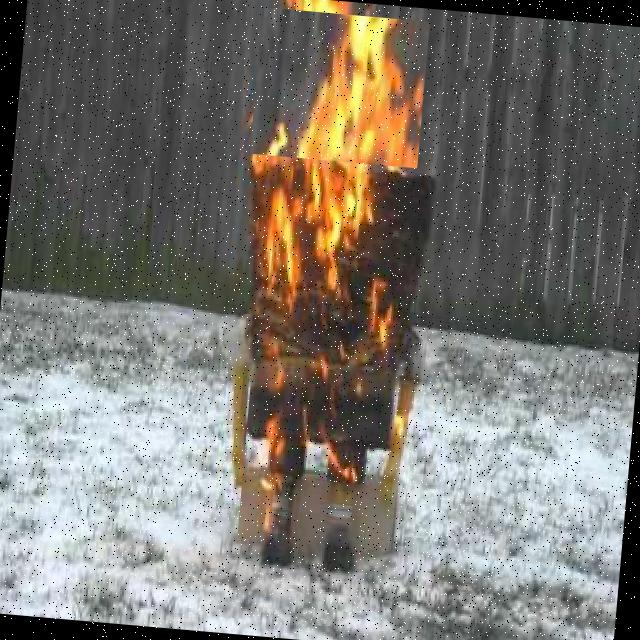fire: (250, 7, 430, 168)
